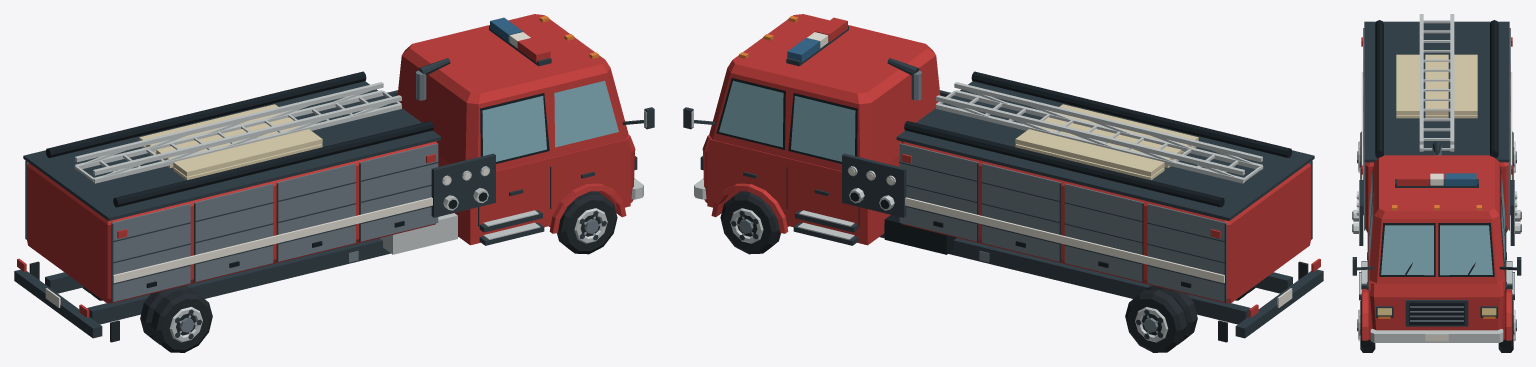
File: b15_fire_pumper_engine.glb
3 renders of one model, left to right at view 1: azimuth 30°, elevation 25°; view 2: azimuth 150°, elevation 25°; view 3: azimuth 270°, elevation 25°, orthographic. The views are drawn at different scales.
Visible parts, largest first — view 1: b15_fire_pumper_engine; view 2: b15_fire_pumper_engine; view 3: b15_fire_pumper_engine.
Part boxes in pixels (left/top/right/bottom): b15_fire_pumper_engine: left=14, top=14, right=654, bottom=352; b15_fire_pumper_engine: left=683, top=14, right=1323, bottom=352; b15_fire_pumper_engine: left=1352, top=14, right=1521, bottom=352.
Size of the model in its own units: 9.43 by 3.12 by 2.92.
